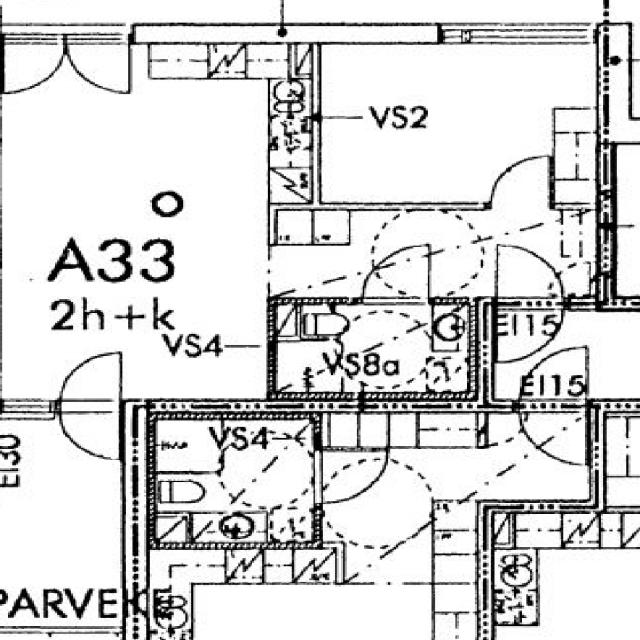door: (498, 298, 564, 363), (498, 245, 564, 310), (60, 400, 119, 467), (60, 353, 119, 420), (66, 34, 129, 94), (364, 246, 428, 305), (4, 34, 66, 94), (491, 156, 549, 210)
